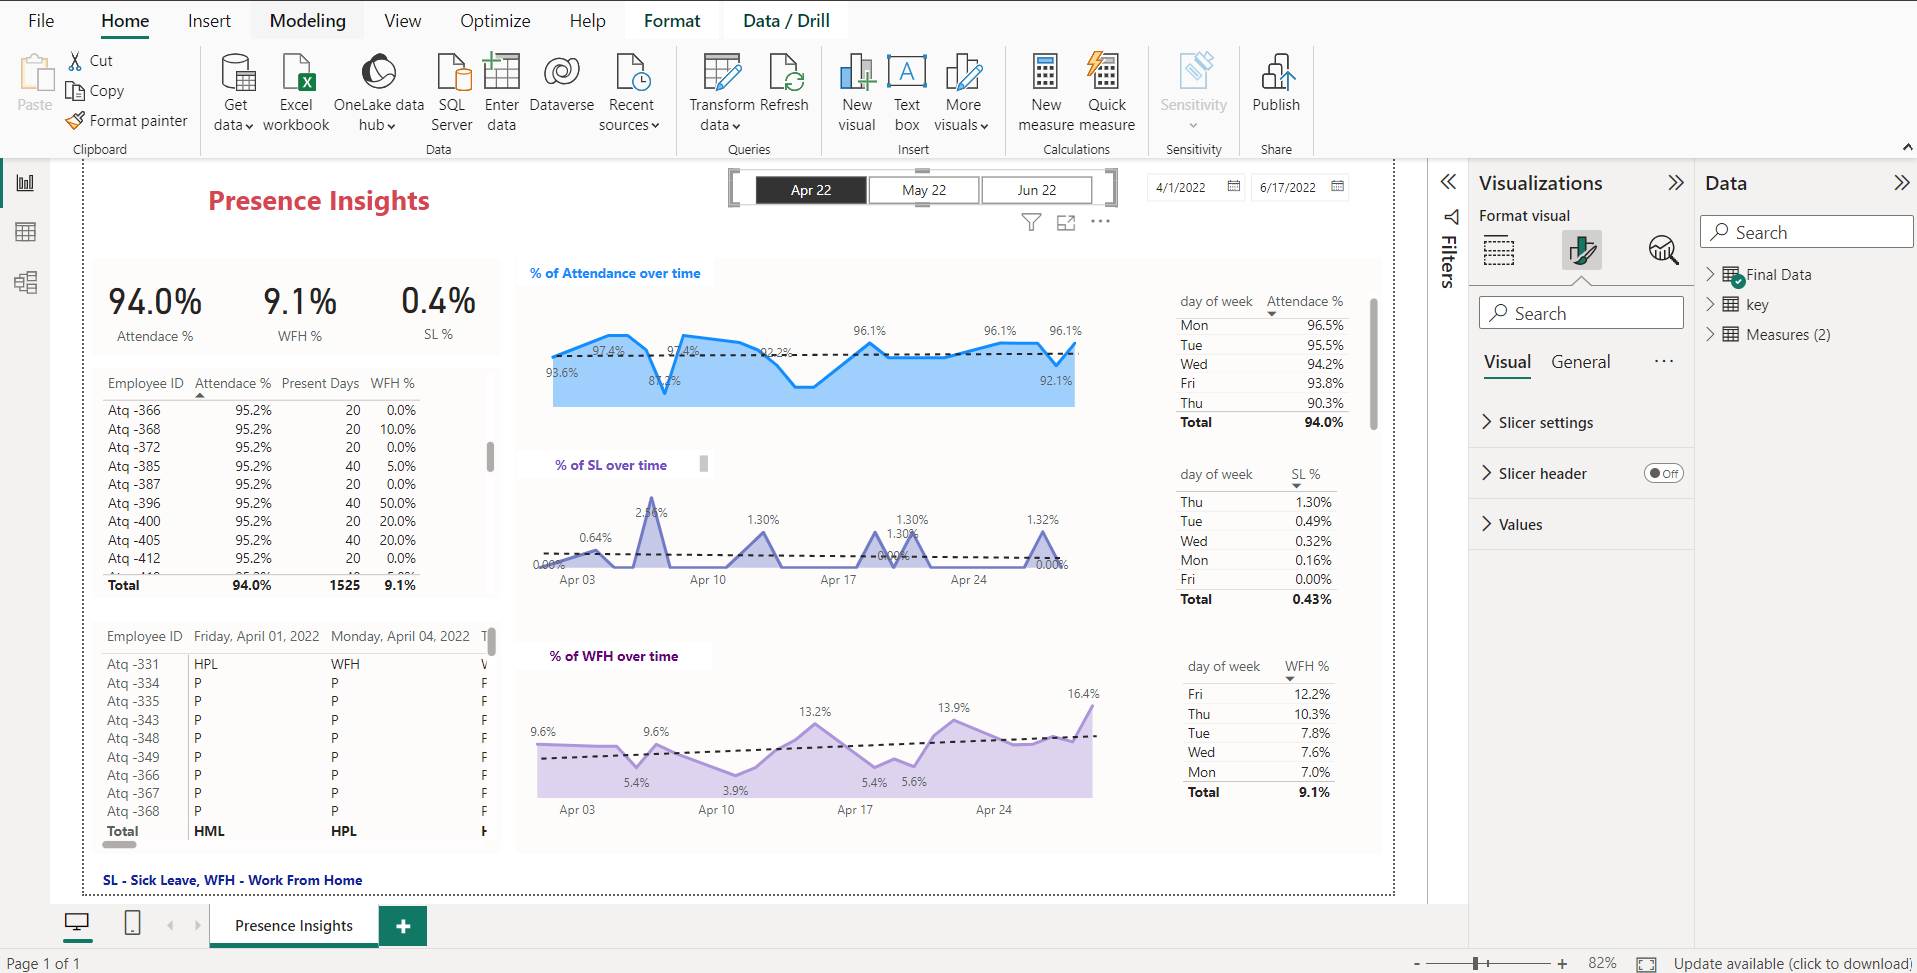

Layout of this report page (visuals, bound fields, positions):
{"tool":"powerbi","page":{"name":"Presence Insights","canvas":[1280,720],"ordinal":0},"visuals":[{"type":"textbox","box":[7.8,205.6,399.9,225.5],"z":0},{"type":"textbox","box":[7.8,453.3,399.8,227.6],"z":1000},{"type":"textbox","box":[422.3,97.9,848.1,582.3],"z":2000},{"type":"textbox","box":[7.8,98,399.9,95.4],"z":3000},{"type":"tableEx","fields":{"Values":["Final Data.Employee ID","Measures (2).Attendace %","Measures (2).Present Days","Measures (2).WFH %"]},"box":[12.6,205.2,394.9,225.7],"z":4000},{"type":"slicer","fields":{"Values":["Final Data.Date"]},"box":[1027.3,5.2,252.7,46.3],"z":5000},{"type":"slicer","fields":{"Values":["Final Data.MMM YY"]},"box":[630.4,10.5,379.5,35.8],"z":6000},{"type":"areaChart","fields":{"Category":["Final Data.MMM YY","Final Data.Date"],"Y":["Measures (2).WFH %"]},"box":[420.7,502.3,589,153.5],"z":7000},{"type":"areaChart","fields":{"Category":["Final Data.WeekNo","Final Data.Date"],"Y":["Measures (2).Attendace %"]},"box":[444.1,144.9,540.4,103.2],"z":8000},{"type":"card","fields":{"Values":["Measures (2).Attendace %"]},"box":[7.8,98,124,96.3],"z":9000},{"type":"card","fields":{"Values":["Measures (2).WFH %"]},"box":[141.4,98,138.8,96.3],"z":10000},{"type":"areaChart","fields":{"Category":["Final Data.MMM YY","Final Data.Date"],"Y":["Measures (2).SL %"]},"box":[422.5,307.1,556,124],"z":11000},{"type":"card","fields":{"Values":["Measures (2).SL %"]},"box":[286.3,97.2,121.4,96.3],"z":13000},{"type":"textbox","box":[69.7,0,353.3,70.9],"z":14000},{"type":"textbox","box":[422.4,98.2,192.5,27.5],"z":15000},{"type":"textbox","box":[422.5,286.3,192.6,26.9],"z":16000},{"type":"textbox","box":[422.1,473.7,192.6,27.2],"z":17000},{"type":"pivotTable","fields":{"Rows":["Final Data.Employee ID"],"Columns":["Final Data.Date"],"Values":["Min(Final Data.Value)"]},"box":[11.7,453.3,395.9,227.6],"z":18000},{"type":"textbox","box":[13.6,691.6,289.8,28.2],"z":19000},{"type":"tableEx","fields":{"Values":["Final Data.day of week","Measures (2).Attendace %"]},"box":[1060.9,125.8,209.9,145.7],"z":20000},{"type":"tableEx","fields":{"Values":["Final Data.day of week","Measures (2).SL %"]},"box":[1060.9,294.1,191.7,167.4],"z":21000},{"type":"tableEx","fields":{"Values":["Final Data.day of week","Measures (2).WFH %"]},"box":[1068.7,483.2,170,167.4],"z":22000}]}

Visuals, with their boxes on the page's 1280x720 design canvas (x1, y1, x2, y2). These are canvas units, not pixel positions in the 1917x973 screenshot, which may show the page scaled, cropped or inside an application window:
textbox: select_region(8, 206, 408, 431)
textbox: select_region(8, 453, 408, 681)
textbox: select_region(422, 98, 1270, 680)
textbox: select_region(8, 98, 408, 193)
tableEx - Final Data.Employee ID x Measures (2).Attendace %: select_region(13, 205, 408, 431)
slicer - Final Data.Date: select_region(1027, 5, 1280, 52)
slicer - Final Data.MMM YY: select_region(630, 10, 1010, 46)
areaChart - Final Data.MMM YY x Final Data.Date: select_region(421, 502, 1010, 656)
areaChart - Final Data.WeekNo x Final Data.Date: select_region(444, 145, 984, 248)
card - Measures (2).Attendace %: select_region(8, 98, 132, 194)
card - Measures (2).WFH %: select_region(141, 98, 280, 194)
areaChart - Final Data.MMM YY x Final Data.Date: select_region(422, 307, 978, 431)
card - Measures (2).SL %: select_region(286, 97, 408, 194)
textbox: select_region(70, 0, 423, 71)
textbox: select_region(422, 98, 615, 126)
textbox: select_region(422, 286, 615, 313)
textbox: select_region(422, 474, 615, 501)
pivotTable - Final Data.Employee ID x Final Data.Date: select_region(12, 453, 408, 681)
textbox: select_region(14, 692, 303, 720)
tableEx - Final Data.day of week x Measures (2).Attendace %: select_region(1061, 126, 1271, 272)
tableEx - Final Data.day of week x Measures (2).SL %: select_region(1061, 294, 1253, 462)
tableEx - Final Data.day of week x Measures (2).WFH %: select_region(1069, 483, 1239, 651)
